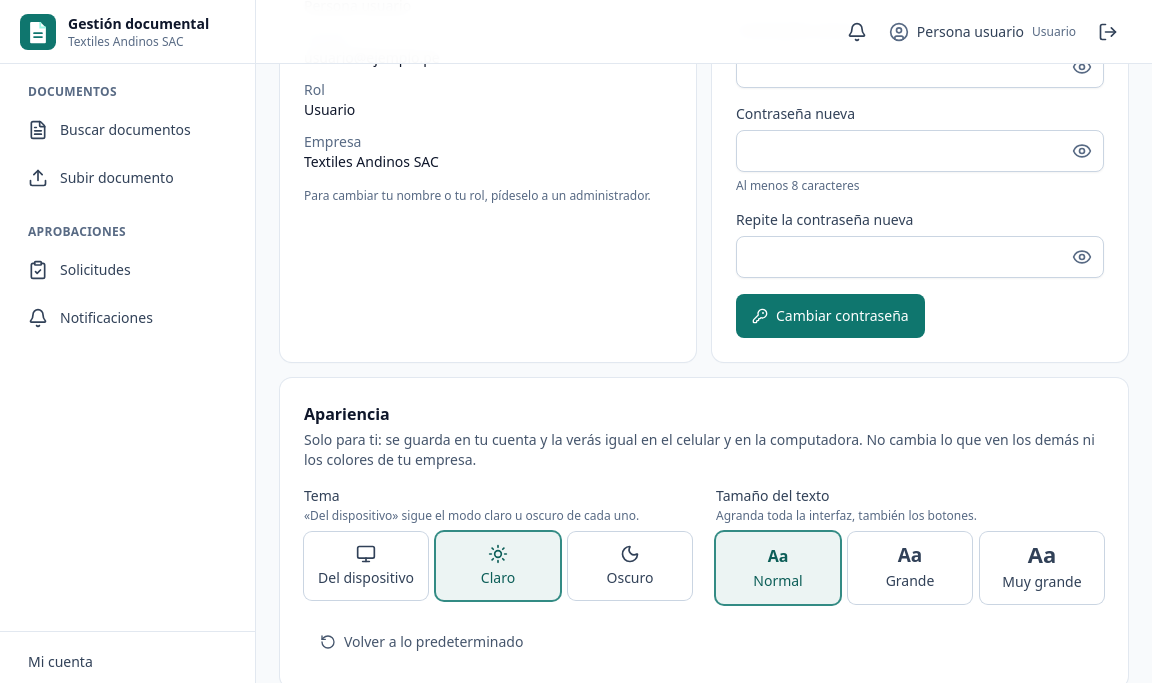
Scenario: Tema de cada persona (RF32) › si la API no lo guarda, vuelve el anterior y lo dice
(page scrolled)
Click the radio button labelled "Oscuro": (630, 566) [568,532,692,600]
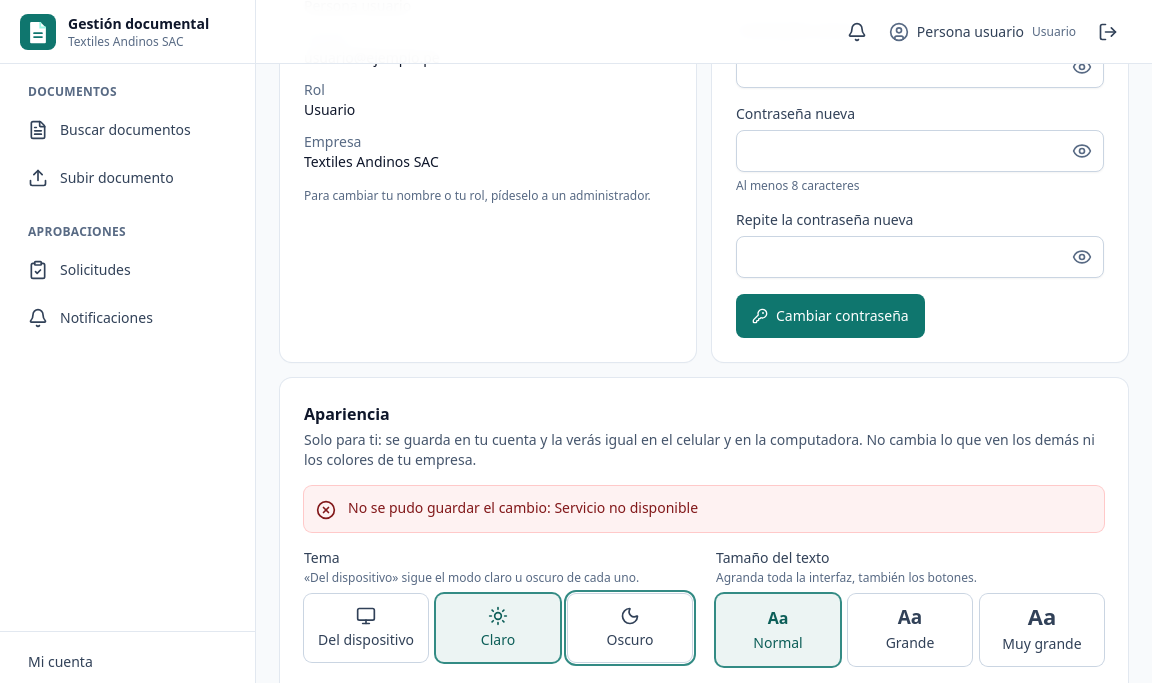
Expected: the radio button labelled "Claro" is checked, [436,594,560,662]
Expected: the text "No se pudo guardar el cambio: Servicio no disponible" is shown, [348,498,698,517]
